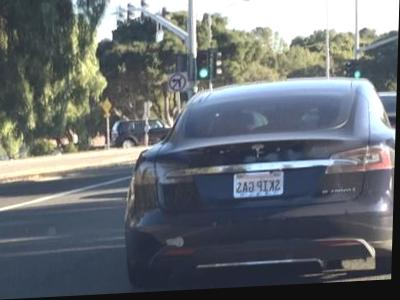License_Plate: (233, 170, 286, 196)
